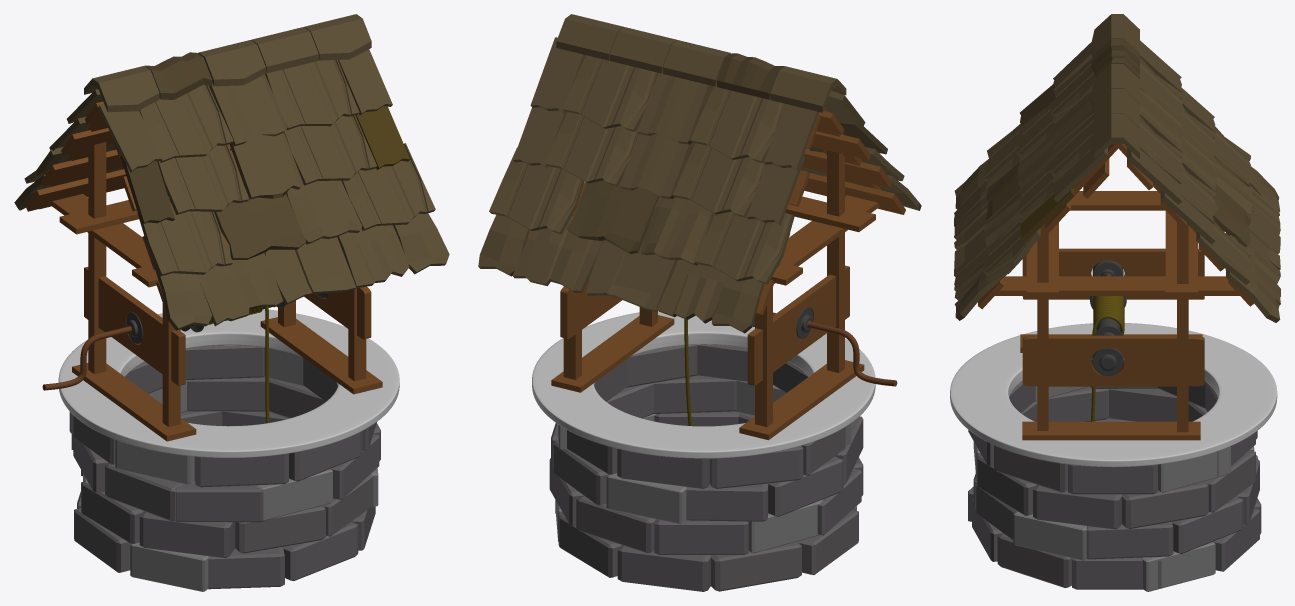
3 renders of one model, left to right at view 1: azimuth 30°, elevation 25°; view 2: azimuth 150°, elevation 25°; view 3: azimuth 270°, elevation 25°, orthographic. The views are drawn at different scales.
Parts seen in each view (by area): view 1: Circle, Cube.045, Cube.044, Cube.010, Cube.012, Cube.013, Cube.014, Plane.003, Cube.018, Cube.024, Cube.022, Cube.016 (+54 smaller); view 2: Circle, Cube.028, Cube.040, Cube.027, Cube.011, Cube.030, Cube.032, Cube.029, Plane.003, Cube.038, Cube.034, Cube.041 (+55 smaller); view 3: Circle, Plane.004, Plane.003, Plane.005, Cube.017, Pustaky.028, Pustaky.026, Pustaky.020, Pustaky.034, Pustaky.023, Pustaky.002, Support.047 (+66 smaller).
Part boxes in pixels (bbox=[...]): Circle: bbox=[58, 309, 399, 457]; Cube.045: bbox=[139, 84, 233, 162]; Cube.044: bbox=[265, 59, 359, 130]; Cube.010: bbox=[137, 203, 232, 276]; Cube.012: bbox=[341, 143, 435, 230]; Cube.013: bbox=[284, 115, 377, 185]; Cube.014: bbox=[157, 144, 249, 214]; Plane.003: bbox=[84, 267, 185, 385]; Cube.018: bbox=[214, 194, 306, 259]; Cube.024: bbox=[264, 237, 356, 305]; Cube.022: bbox=[196, 244, 282, 326]; Cube.016: bbox=[229, 132, 303, 199]; Circle: bbox=[532, 311, 875, 458]; Cube.028: bbox=[695, 211, 794, 284]; Cube.040: bbox=[562, 55, 658, 131]; Cube.027: bbox=[489, 147, 583, 234]; Cube.011: bbox=[690, 83, 784, 163]; Cube.030: bbox=[545, 112, 638, 186]; Cube.032: bbox=[566, 180, 659, 253]; Cube.029: bbox=[673, 143, 765, 217]; Plane.003: bbox=[747, 265, 849, 385]; Cube.038: bbox=[586, 235, 677, 312]; Cube.034: bbox=[512, 216, 603, 292]; Cube.041: bbox=[637, 72, 713, 144]; Circle: bbox=[950, 323, 1277, 467]; Plane.004: bbox=[1022, 335, 1204, 386]; Plane.003: bbox=[1022, 248, 1204, 299]; Plane.005: bbox=[1022, 421, 1200, 440]; Cube.017: bbox=[995, 276, 1239, 295]; Pustaky.028: bbox=[1033, 485, 1121, 529]; Pustaky.026: bbox=[1122, 481, 1208, 528]; Pustaky.020: bbox=[1086, 522, 1173, 559]; Pustaky.034: bbox=[1068, 464, 1157, 494]; Pustaky.023: bbox=[1013, 511, 1086, 560]; Pustaky.002: bbox=[1072, 557, 1161, 589]; Support.047: bbox=[1177, 223, 1188, 432].
Size of the model in its own units: 297 by 405 by 264.
